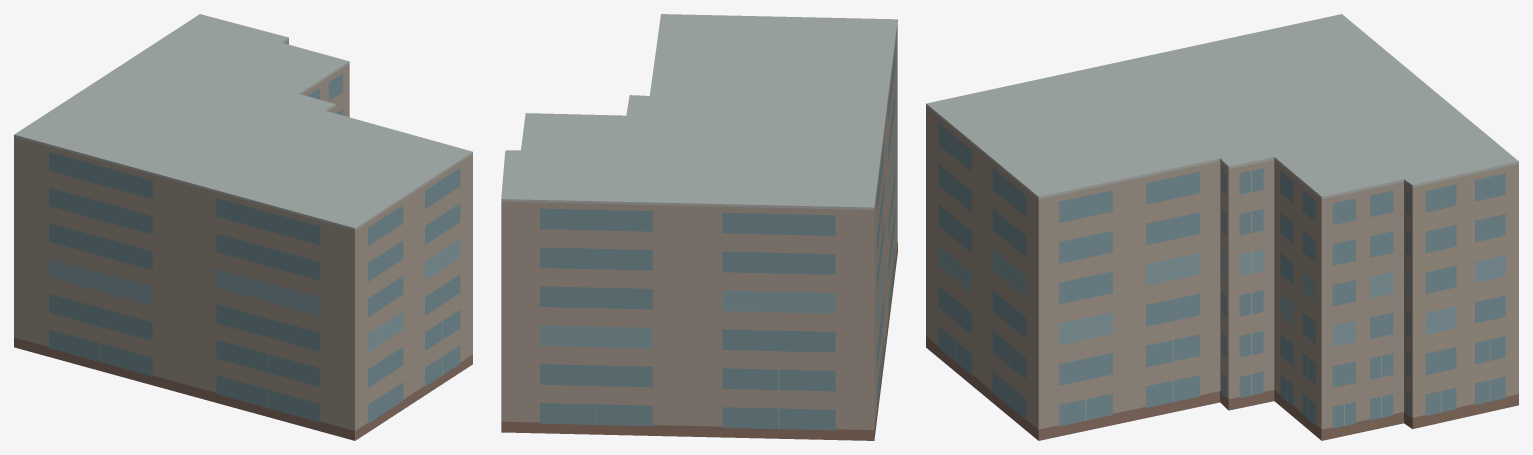
The model's file is survey-upis-32830684.glb.
3 renders of one model, left to right at view 1: azimuth 30°, elevation 25°; view 2: azimuth 150°, elevation 25°; view 3: azimuth 270°, elevation 25°, orthographic. The views are drawn at different scales.
Parts seen in each view (by area): view 1: survey-upis-32830684.tmp; view 2: survey-upis-32830684.tmp; view 3: survey-upis-32830684.tmp.
Boxes of the visible parts, box(x1,y1,x2,y2) form: survey-upis-32830684.tmp: box(14, 14, 472, 440); survey-upis-32830684.tmp: box(501, 14, 897, 440); survey-upis-32830684.tmp: box(926, 14, 1518, 440).
Bounding box in the file's own units: 36.01 × 22.4 × 49.32.
